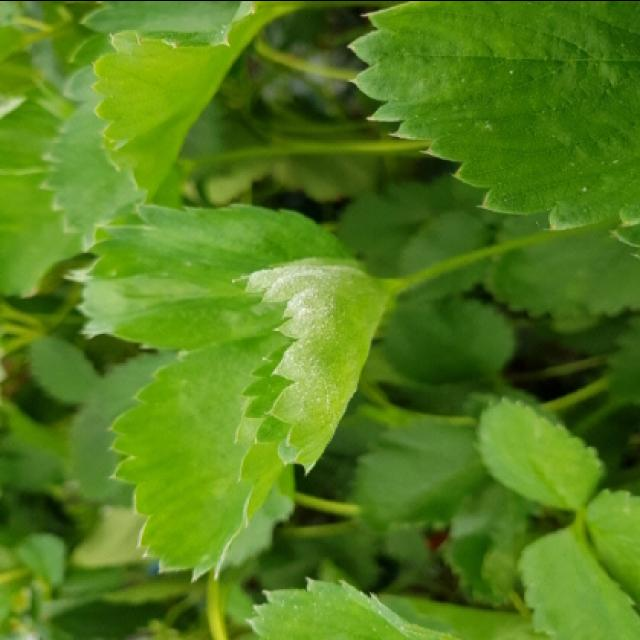Powdery Mildew Leaf: (238, 255, 392, 473)
